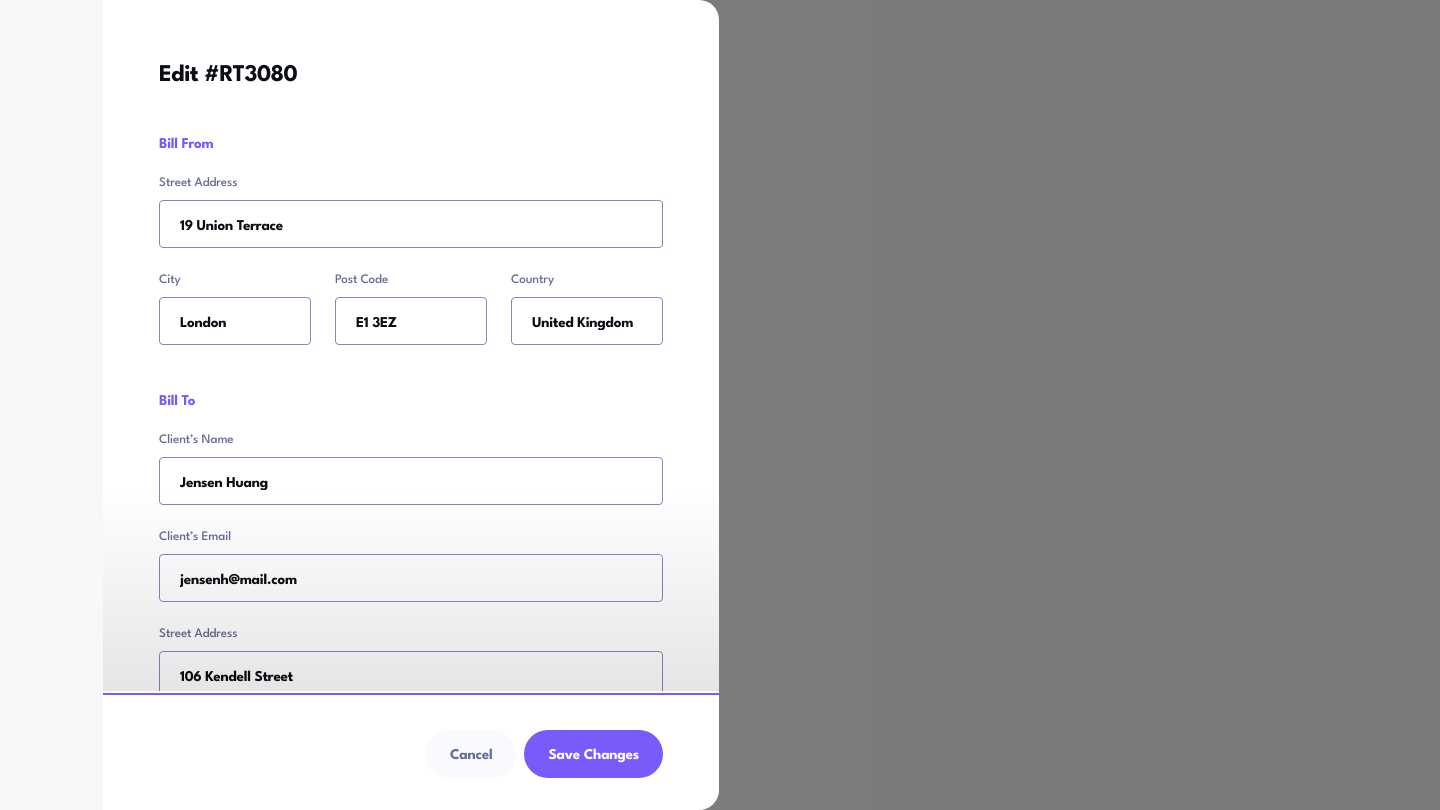
Test case: while saving › labels the pending button and disables the others
Click the button "Save Changes": (594, 754) [524, 730, 663, 778]
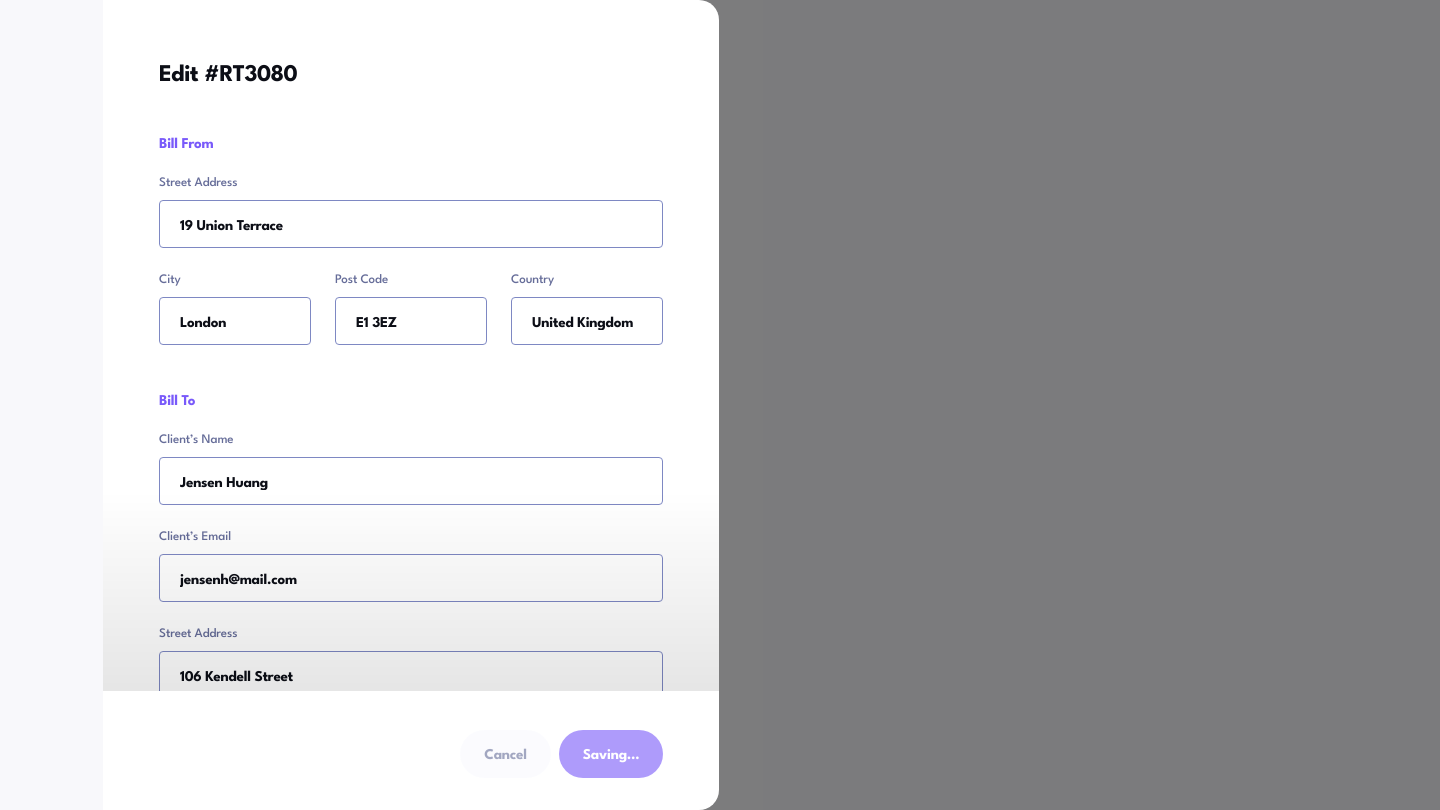
Result: the button "Saving…" is disabled at [559, 730, 663, 778]
Result: the button "Cancel" is disabled at [460, 730, 551, 778]
